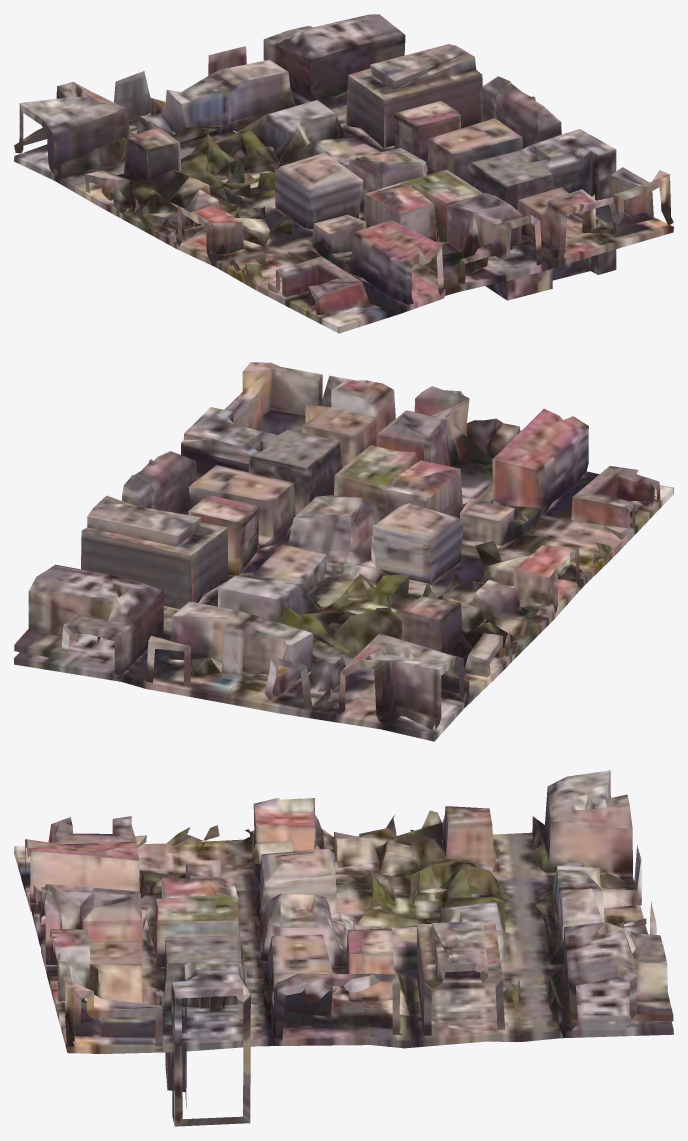
The picture shows the model from 3 angles, top to bottom: view 1: azimuth 30°, elevation 25°; view 2: azimuth 150°, elevation 25°; view 3: azimuth 270°, elevation 25°; orthographic projection. The views are drawn at different scales.
Parts seen in each view (by area): view 1: Mesh_0; view 2: Mesh_0; view 3: Mesh_0.
Part boxes in pixels (x1,y1,x2,y2): Mesh_0: (14,14,673,333); Mesh_0: (14,362,673,741); Mesh_0: (14,770,673,1126).
Bounding box in the file's own units: 266 × 82.04 × 330.
Materials: 1 (1 with a texture image).
